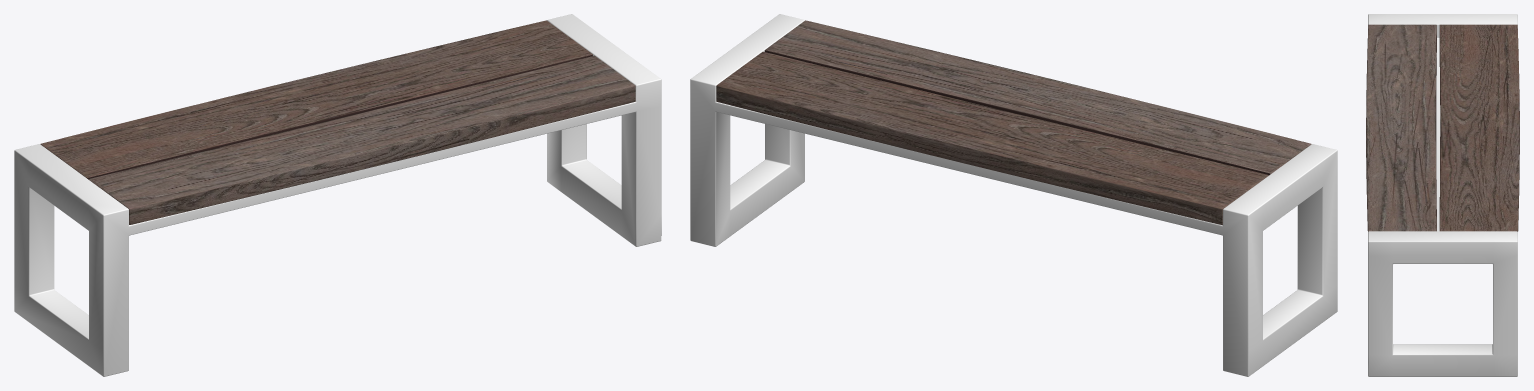
File: adf9065a-6914-4044-9f76-c3f54fb94f8a.glb
The picture shows the model from 3 angles, left to right: view 1: azimuth 30°, elevation 25°; view 2: azimuth 150°, elevation 25°; view 3: azimuth 270°, elevation 25°; orthographic projection. The views are drawn at different scales.
Parts seen in each view (by area): view 1: Wood, Frame; view 2: Wood, Frame; view 3: Wood, Frame.
Boxes of the visible parts, x1,y1,x2,y2 form: Wood: (40,20,635,224); Frame: (14,14,661,376); Wood: (716,20,1311,224); Frame: (690,14,1337,376); Wood: (1366,24,1519,231); Frame: (1368,14,1517,376).
Size of the model in its own units: 1.73 by 0.4799 by 0.4931.
2 materials, 1 textured.
